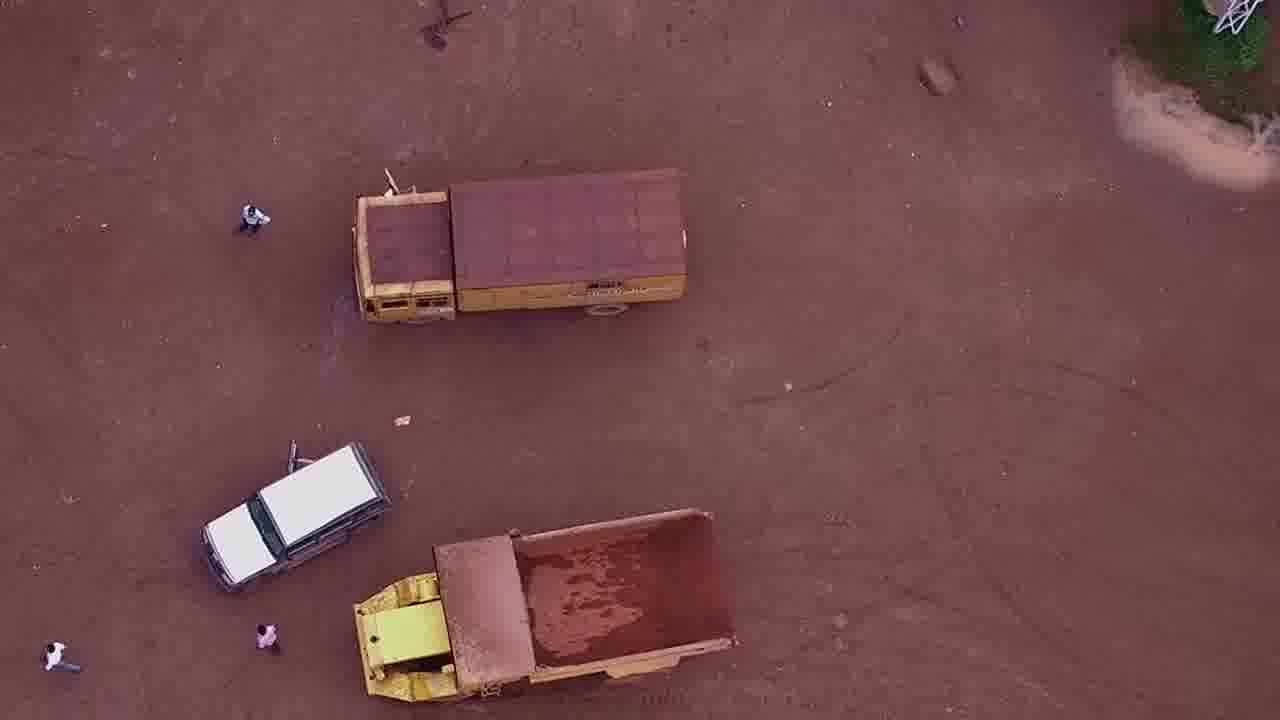HMV: (356, 487, 743, 702), (349, 155, 694, 336)
LMV: (198, 433, 391, 593)
Person: (38, 629, 81, 680), (236, 191, 273, 239), (248, 621, 291, 654)
